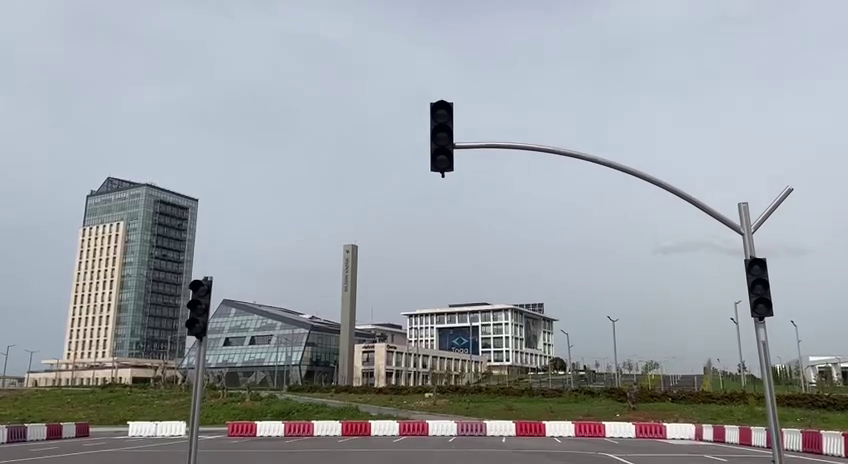trafficLight: (423, 93, 460, 182), (739, 253, 776, 324), (183, 272, 215, 345)
